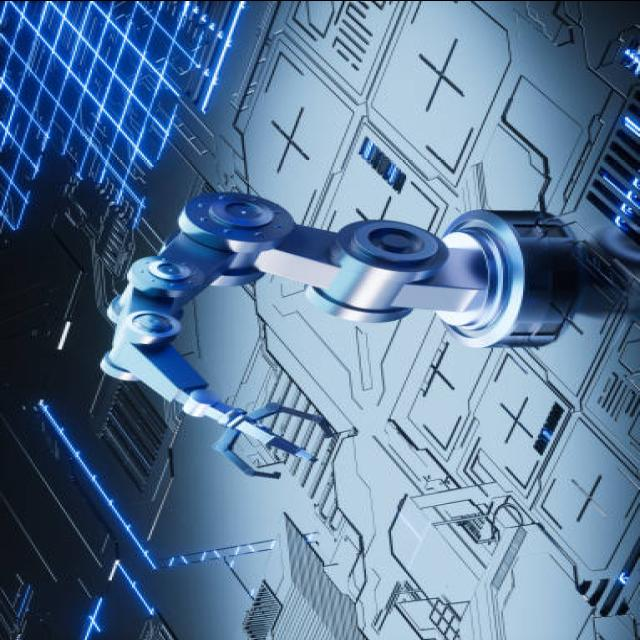Robotic-arm: (89, 189, 576, 483)
